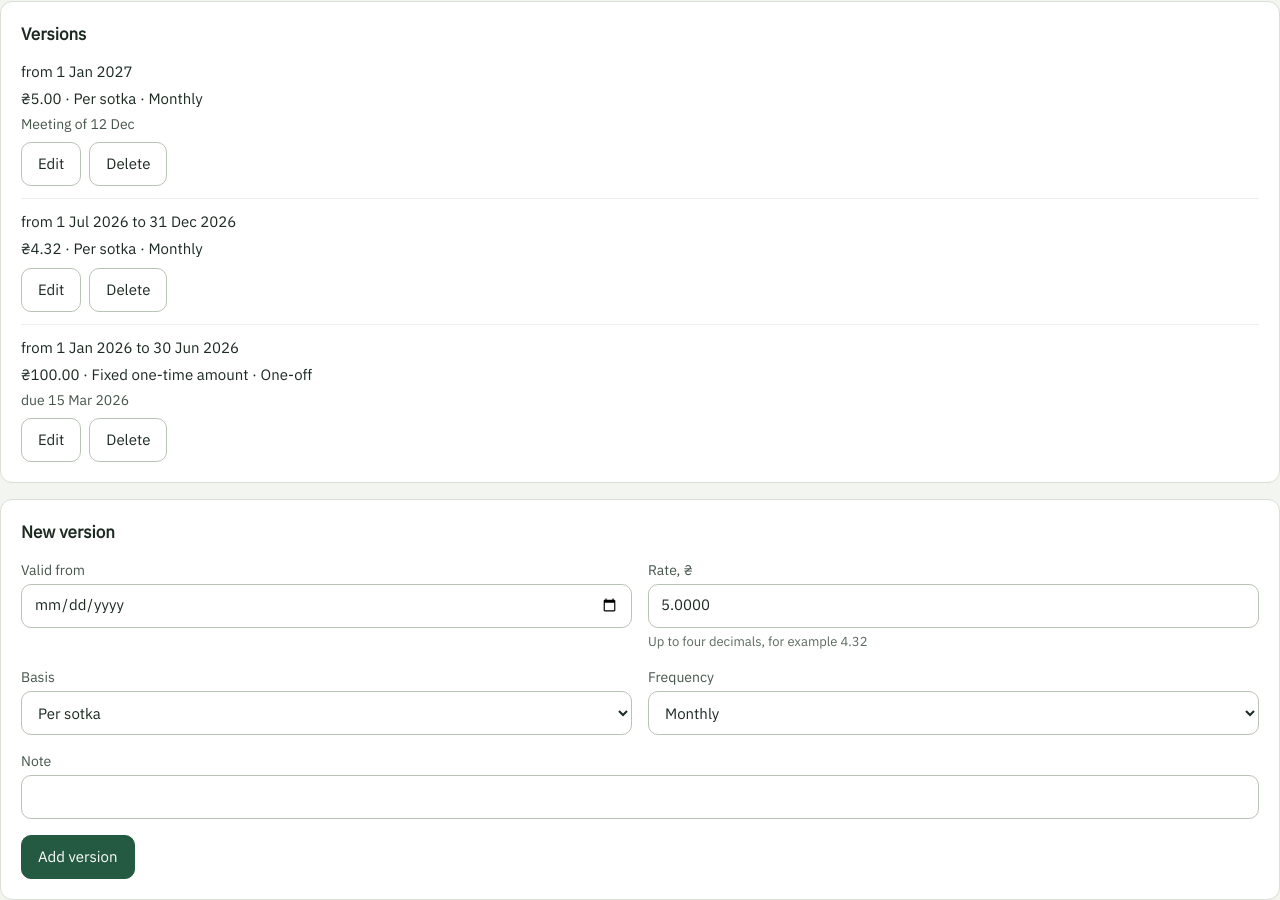
it: TariffPage › puts a taken date on the date field
This screenshot has width=1280, height=900.
(page scrolled)
Type "2026-07-01" into the date field labelled "Valid from". click: (326, 606)
box: [21,584,632,628]
(page scrolled)
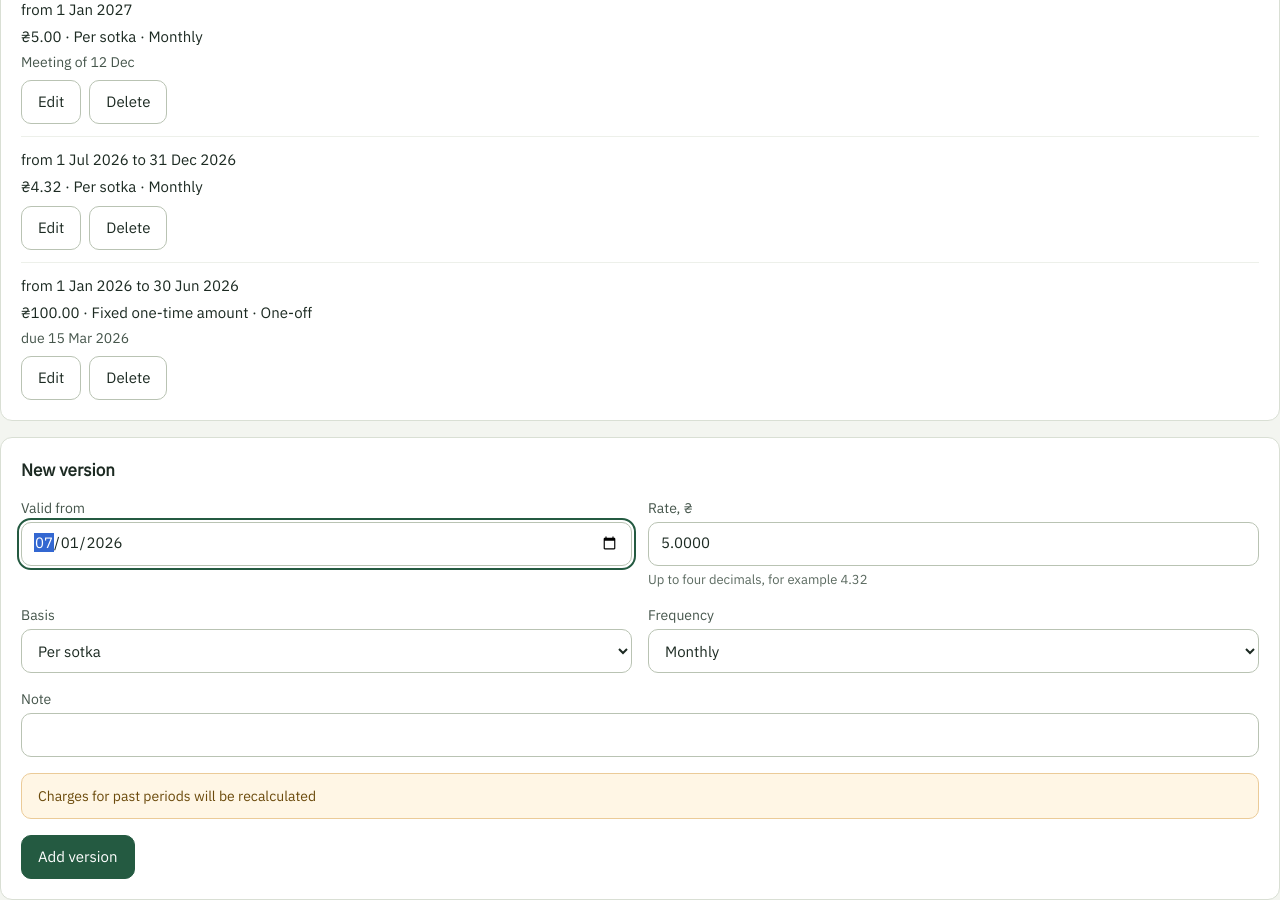
Click the button "Add version". click: (78, 857)
box: [21,835,134,879]
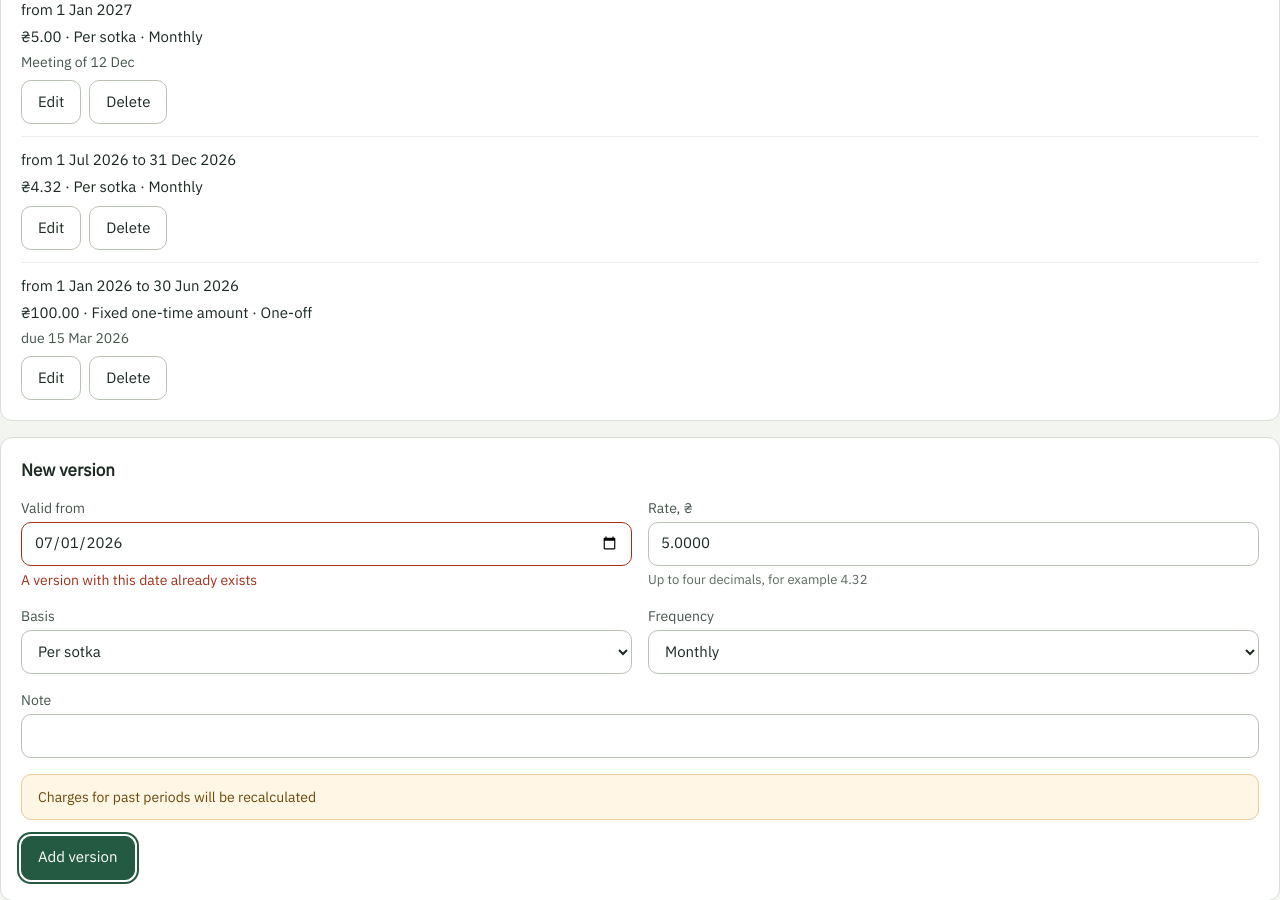
Result: the text "A version with this date already exists" is shown at [21,570,257,588]
